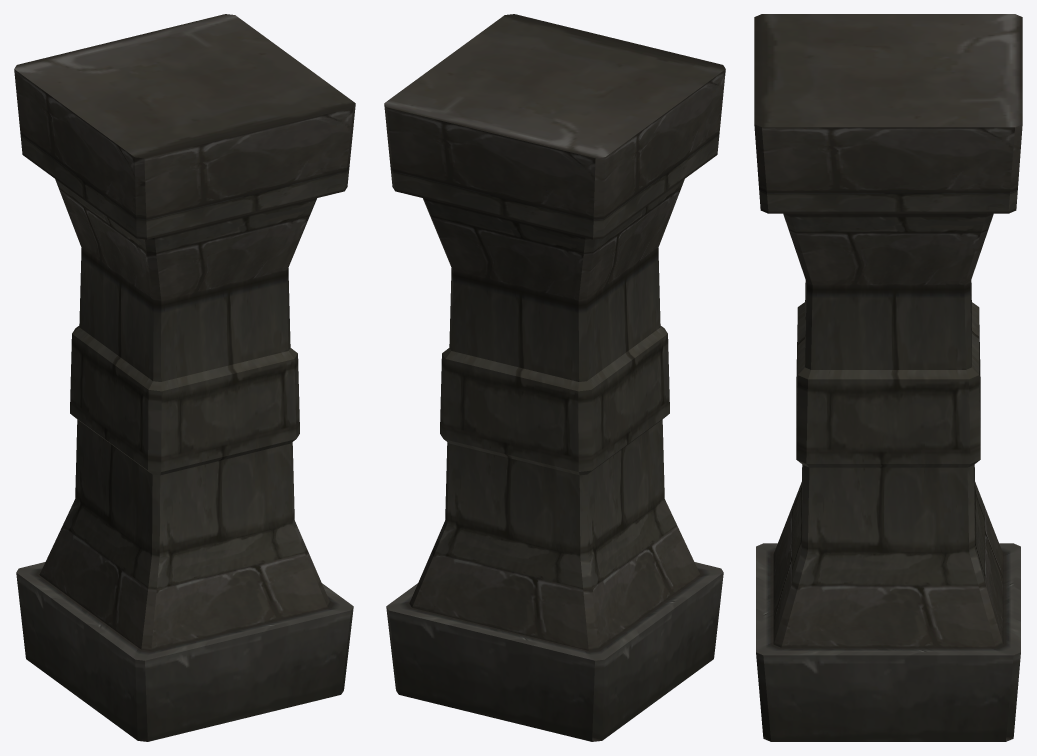
Rendered from sewer_pillar002.FBX.
3 views of the same model, side by side, from view 1: azimuth 30°, elevation 25°; view 2: azimuth 150°, elevation 25°; view 3: azimuth 270°, elevation 25° (orthographic). The views are drawn at different scales.
Parts seen in each view (by area): view 1: sewer_pillar002; view 2: sewer_pillar002; view 3: sewer_pillar002.
Part boxes in pixels (bbox=[...]): sewer_pillar002: bbox=[14, 14, 355, 741]; sewer_pillar002: bbox=[384, 14, 725, 741]; sewer_pillar002: bbox=[754, 14, 1022, 741].
Bounding box in the file's own units: 248 × 630 × 248.
